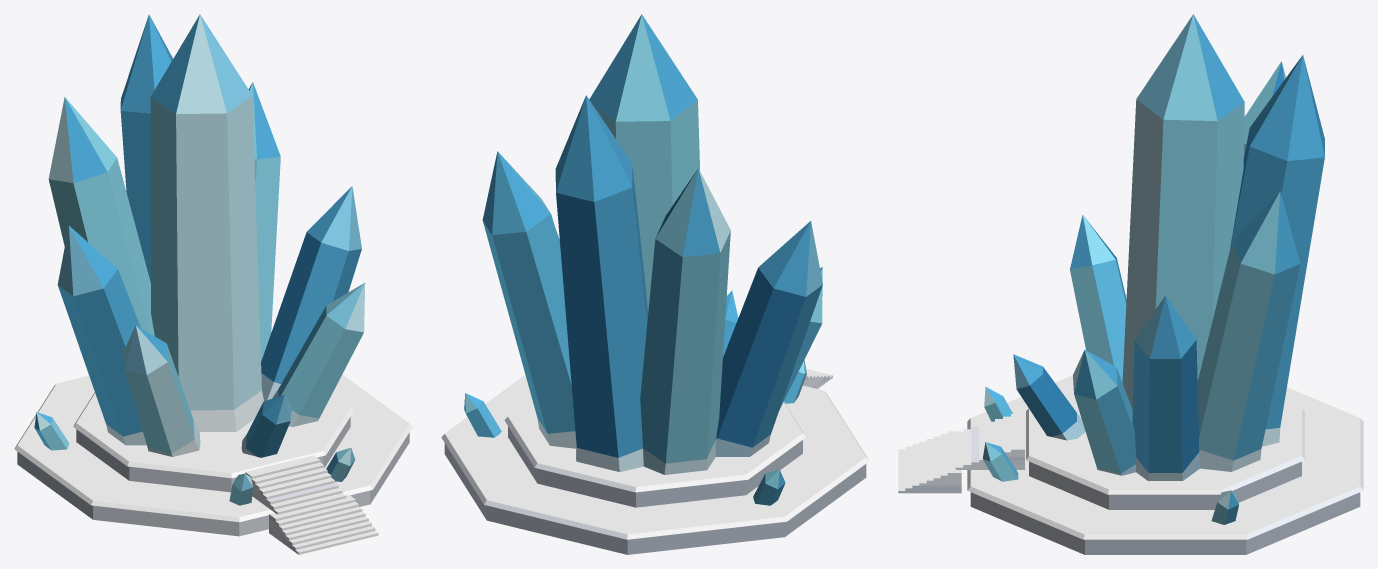
File: landmark.glb
3 renders of one model, left to right at view 1: azimuth 30°, elevation 25°; view 2: azimuth 150°, elevation 25°; view 3: azimuth 270°, elevation 25°, orthographic. The views are drawn at different scales.
Visible parts, largest first — view 1: crystal; view 2: crystal; view 3: crystal.
Boxes of the visible parts, <box> form: crystal: <box>14,14,412,554</box>; crystal: <box>441,14,869,554</box>; crystal: <box>898,14,1363,554</box>.
Size of the model in its own units: 28.18 by 35.99 by 33.09.
Materials: 1 (1 with a texture image).
